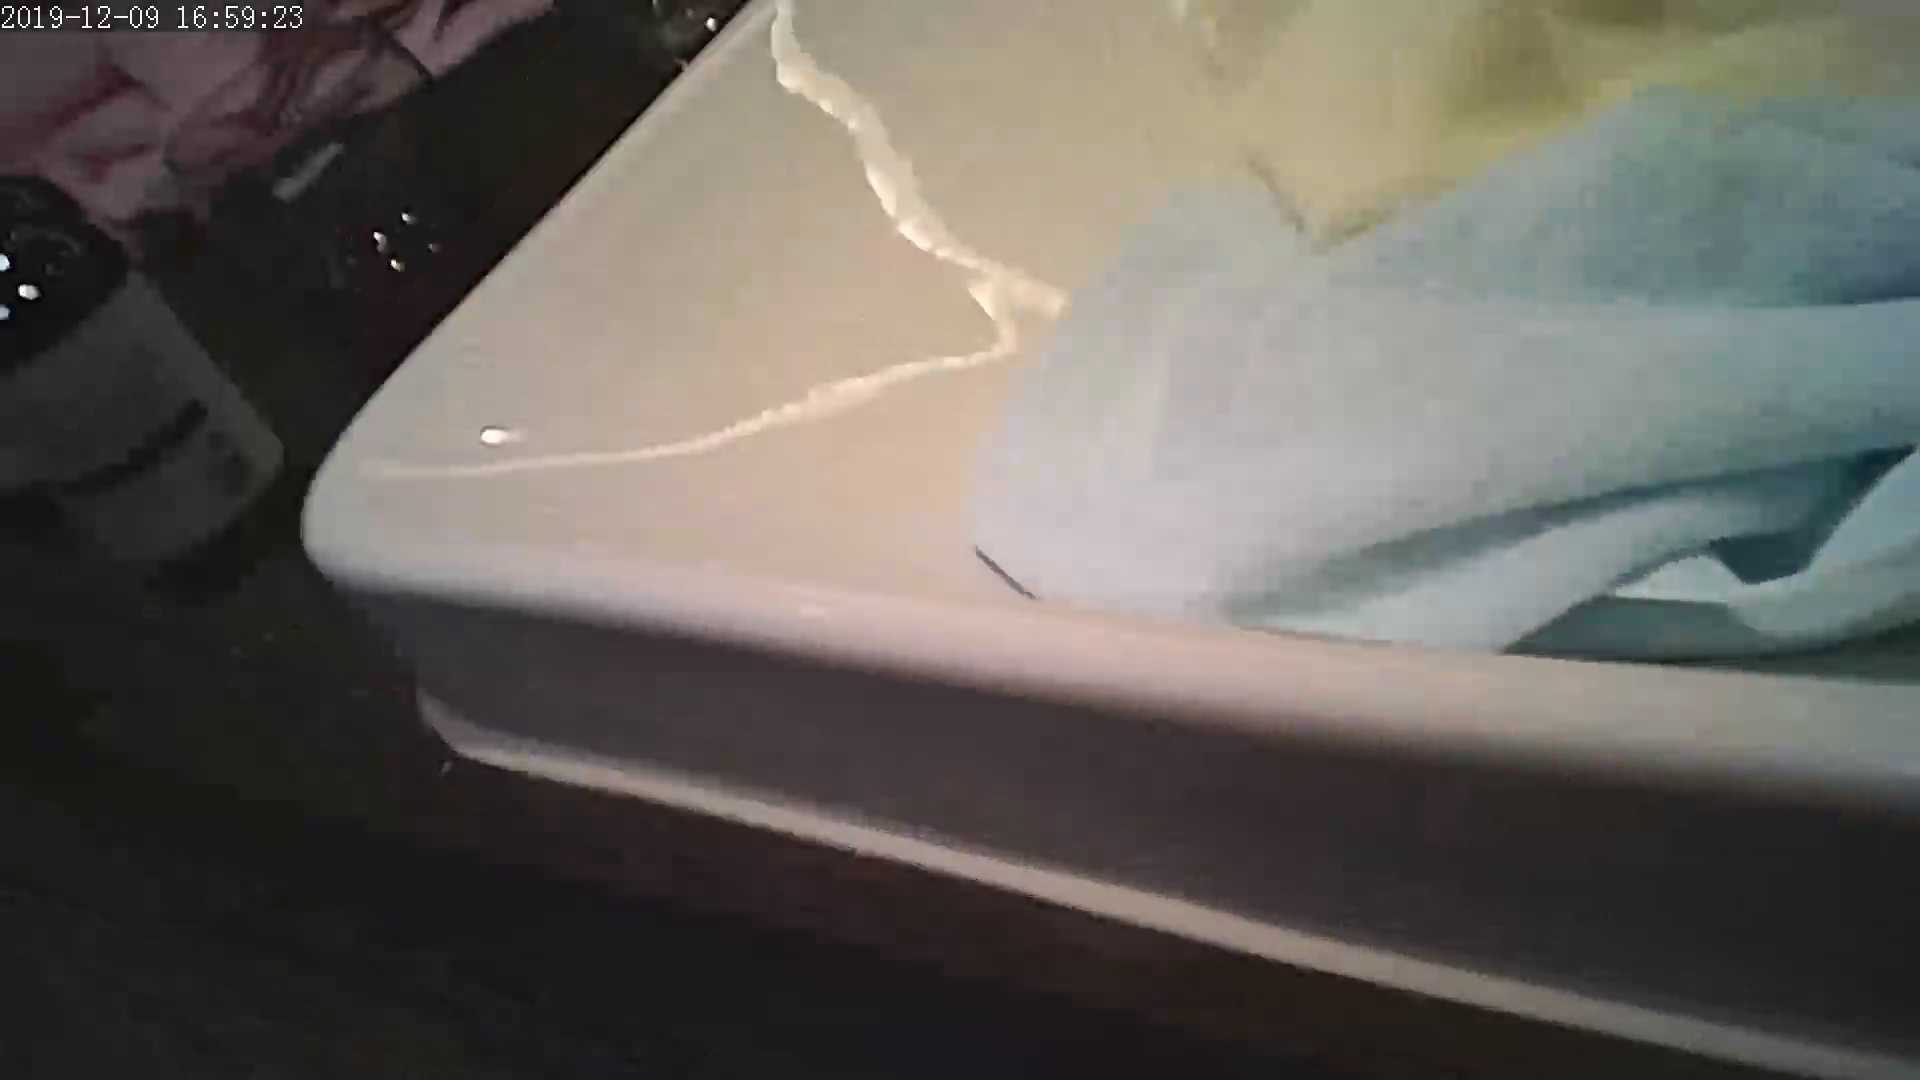bluecloth: (1073, 150, 1880, 657)
sink: (311, 65, 1861, 1025)
